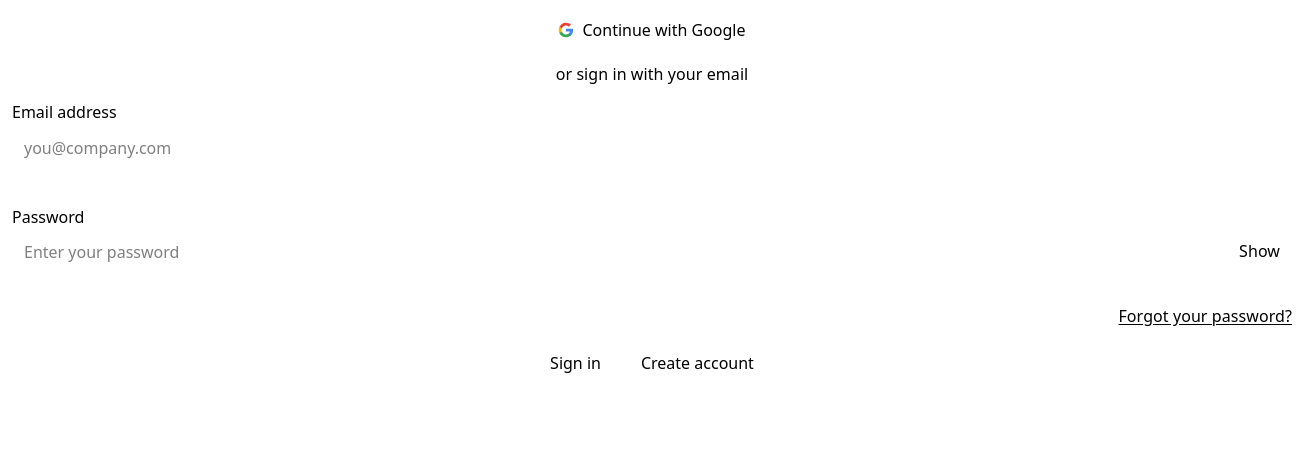
Test: AuthForm password reset request › says when the request could not be sent
Type "a@x.com" into the field with placeholder "you@company.com".
click(652, 148); type("a@x.com")  # box [12, 130, 1292, 166]
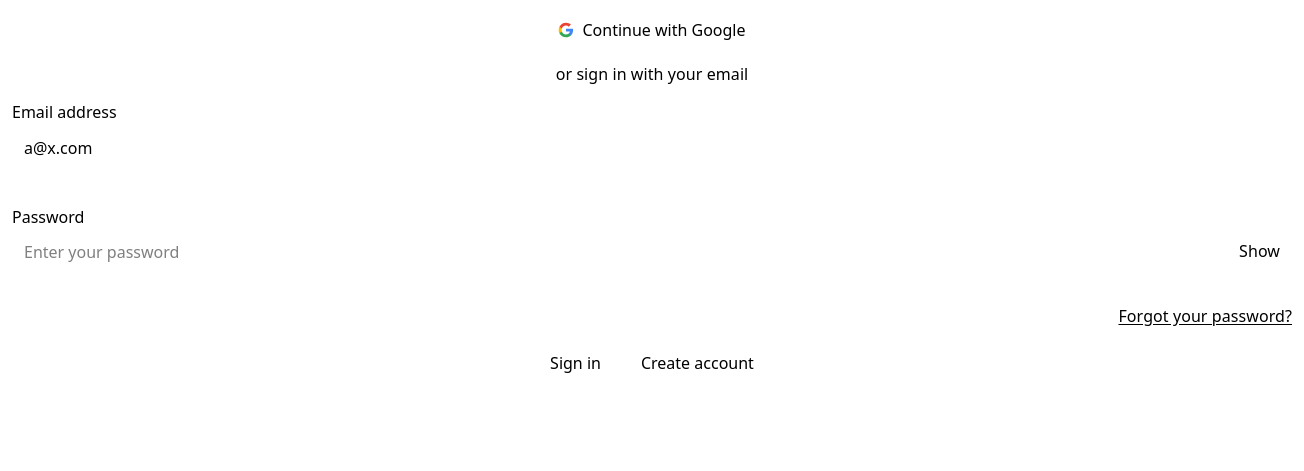
Click the button "Forgot your password?".
click(1205, 316)  # box [1118, 306, 1292, 327]
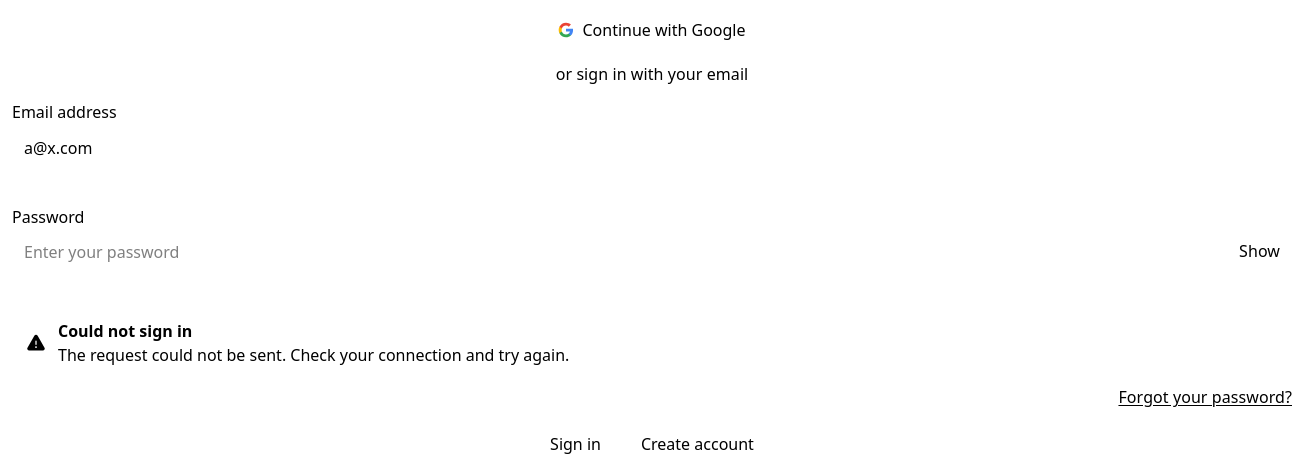
Expected: the text "The request could not be sent. Check your connection and try again." is shown, [58, 344, 569, 366]
